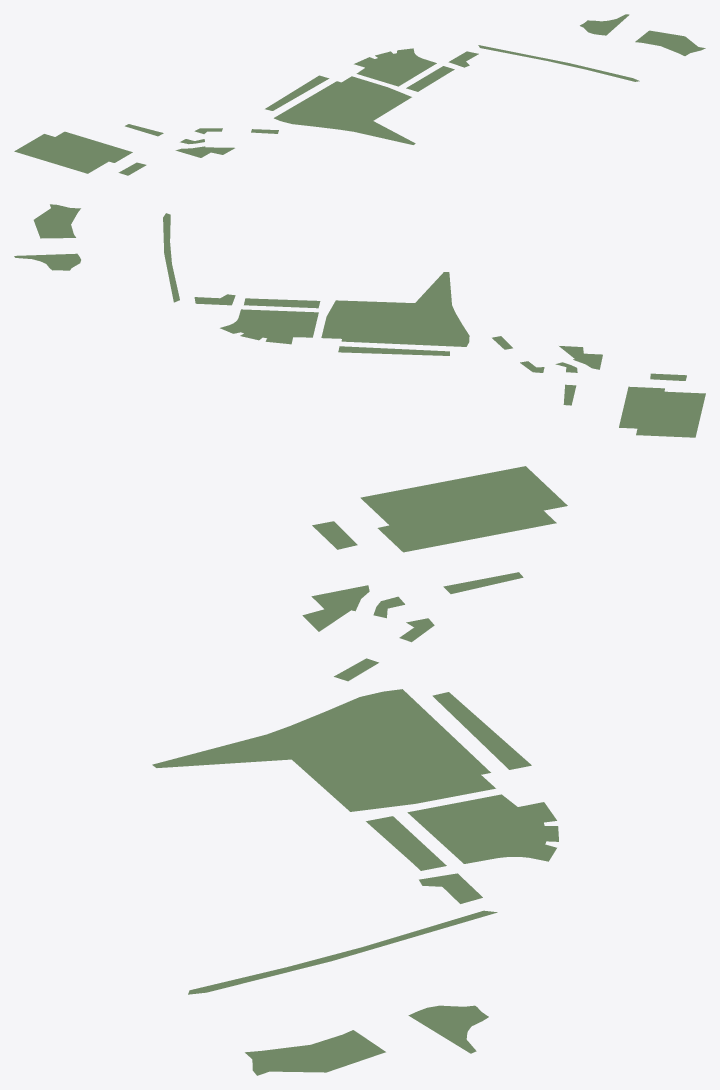
File: c_1644_17814_parks.glb
The picture shows the model from 3 angles, top to bottom: view 1: azimuth 30°, elevation 25°; view 2: azimuth 150°, elevation 25°; view 3: azimuth 270°, elevation 25°; orthographic projection. The views are drawn at different scales.
Parts seen in each view (by area): view 1: geometry_0; view 2: geometry_0; view 3: geometry_0.
Boxes of the visible parts, x1,y1,x2,y2 form: geometry_0: [14, 14, 705, 175]; geometry_0: [14, 204, 705, 437]; geometry_0: [152, 466, 567, 1075].
Size of the model in its own units: 262 by 0 by 75.49.
